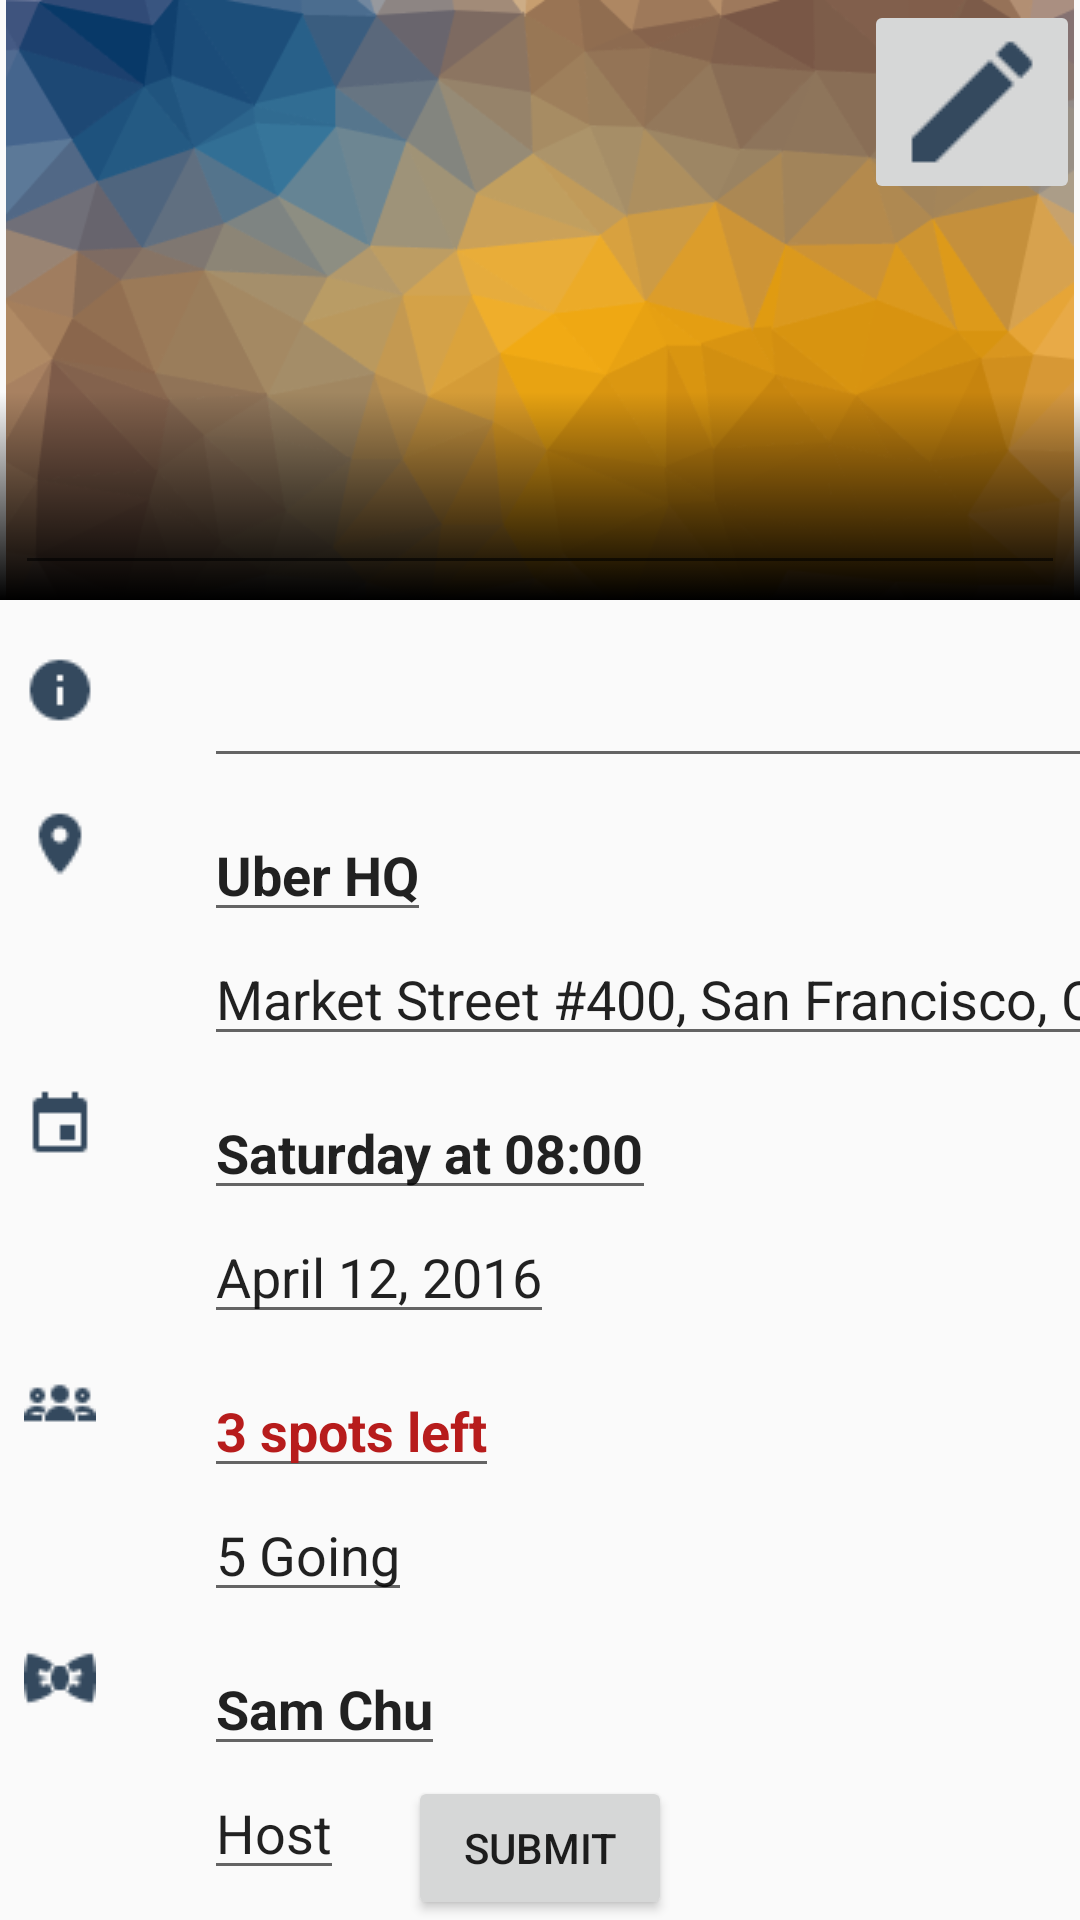

Icon click points for this 1080*1920 phone screenshot, format (x=x, y=y):
calendar: (x=60, y=1122)
editpencil: (x=972, y=102)
guests: (x=60, y=1403)
info: (x=60, y=690)
location: (x=60, y=844)
